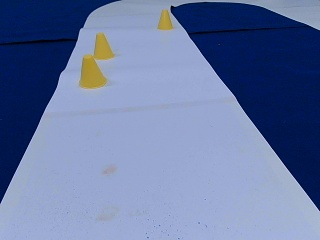cone: (78, 55, 106, 88), (92, 33, 113, 59), (158, 10, 172, 29)
